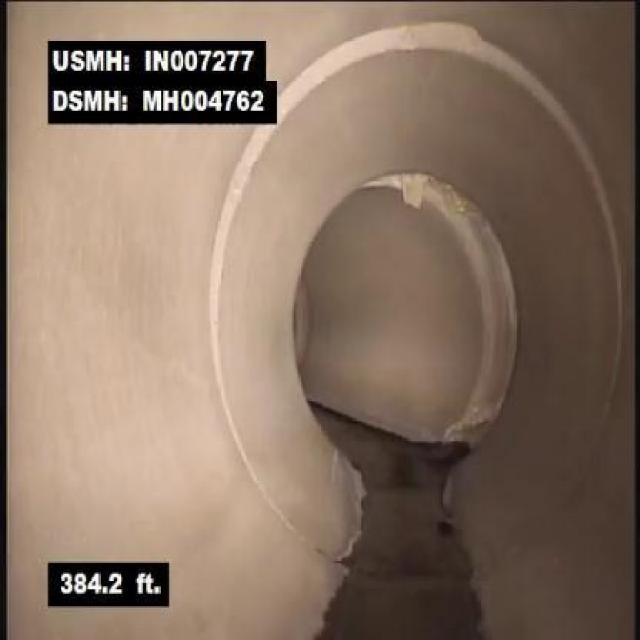Joint offset: (283, 12, 559, 116)
